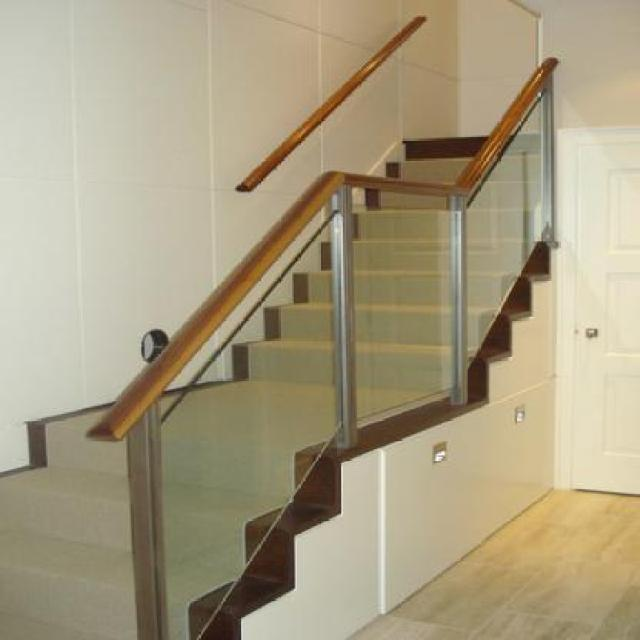stair: (42, 96, 576, 639)
